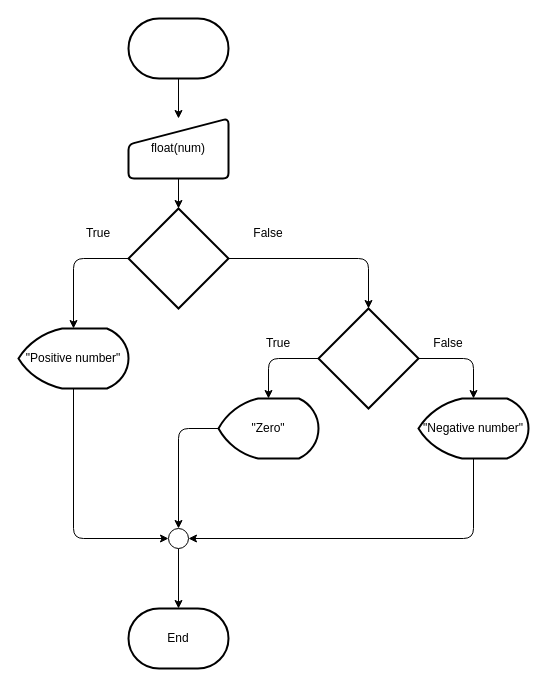
Image size: 546x686. Some labels were removed from this diagram. The centre of each missing label's shape, as x and y in pixels:
"num == 0" goes at pixel 368 358.
"num > 0" goes at pixel 178 258.
"Start" goes at pixel 178 48.
